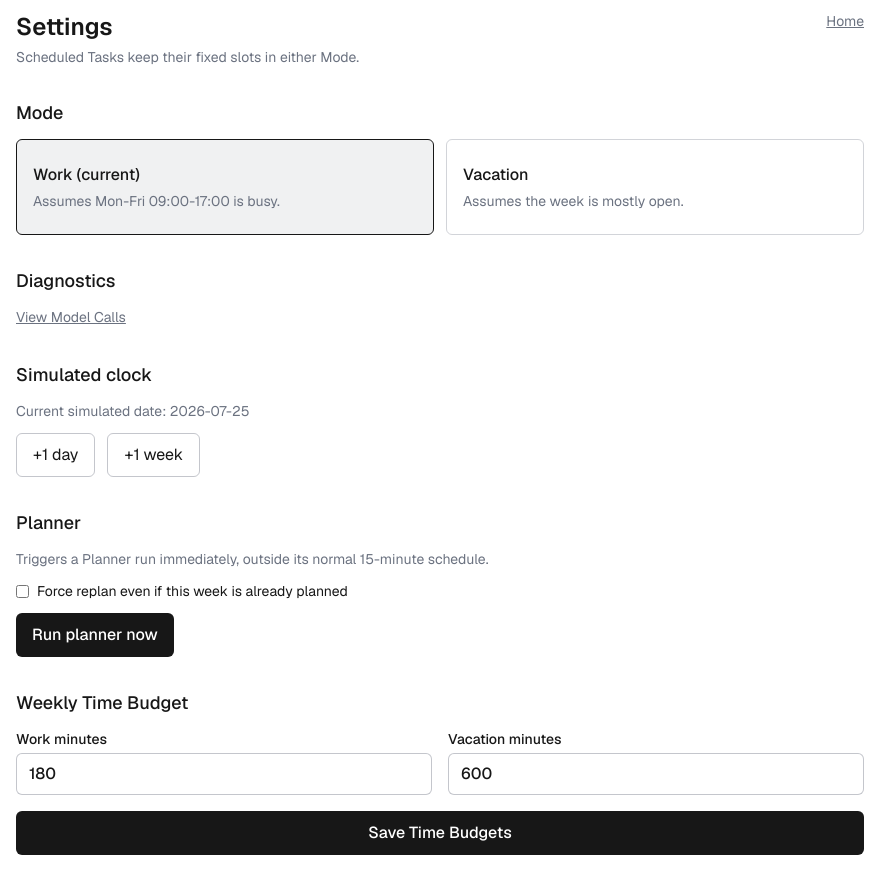
Scenario: Settings page › shows Simulated Clock advance controls only when the server enables the clock
Expected: the text "Current simulated date: 2026-07-25" is shown, [16,402,249,420]
Click the button "+1 week". click: (154, 455)
box: [108,433,200,477]
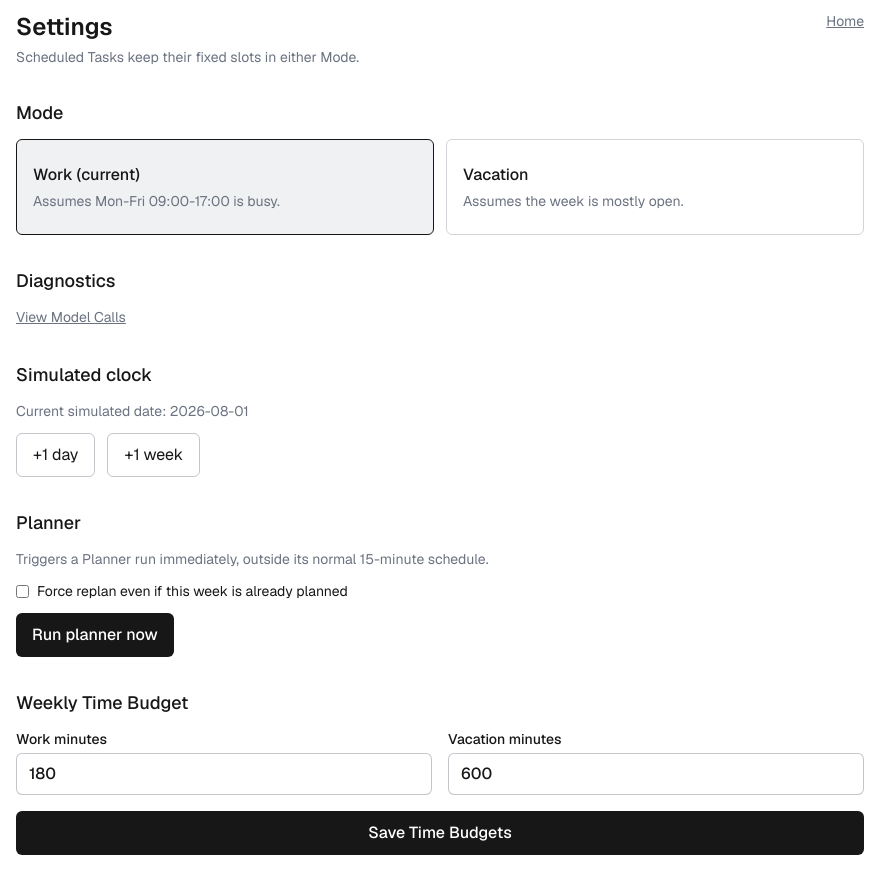
Expected: the text "Current simulated date: 2026-08-01" is shown, [16,402,249,420]
